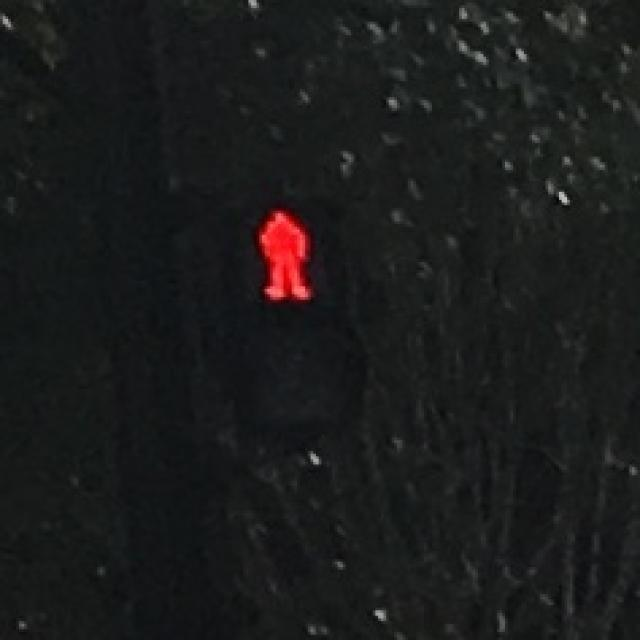red-crossing: (238, 197, 330, 308)
